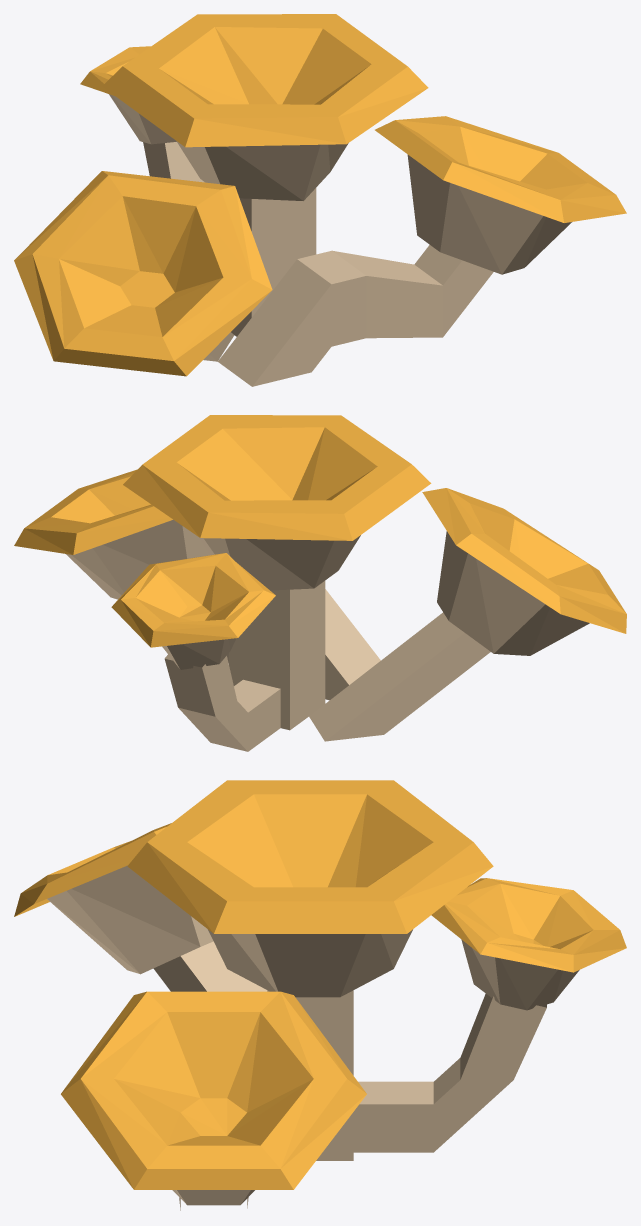
Rendered from obj_fungus_3_0.obj.
The picture shows the model from 3 angles, top to bottom: view 1: azimuth 30°, elevation 25°; view 2: azimuth 150°, elevation 25°; view 3: azimuth 270°, elevation 25°; orthographic projection. The views are drawn at different scales.
Size of the model in its own units: 0.9062 by 0.3906 by 0.7188.
